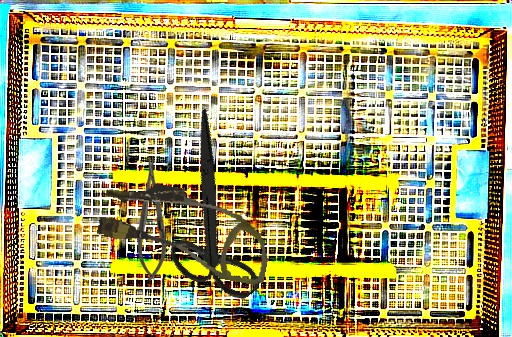Cannula: (92, 174, 279, 287)
Iris Scissors: (109, 107, 315, 321)
Needle Holder: (137, 157, 167, 281)
